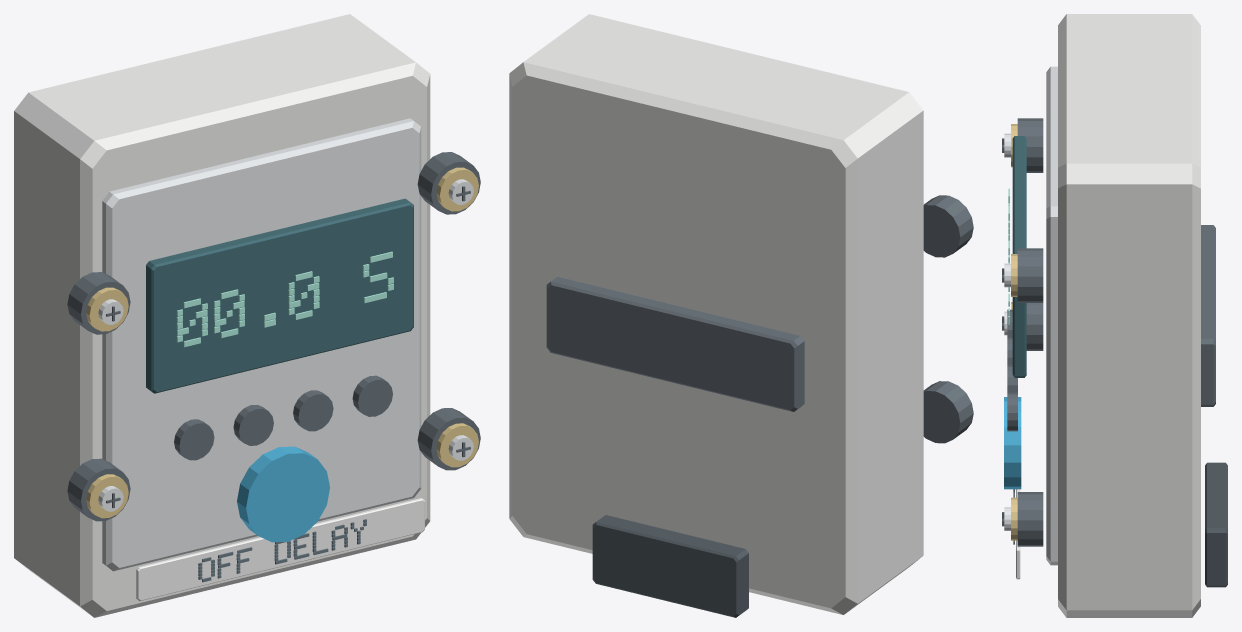
The model's file is timerOffDelay.glb.
3 views of the same model, side by side, from view 1: azimuth 30°, elevation 25°; view 2: azimuth 150°, elevation 25°; view 3: azimuth 270°, elevation 25° (orthographic). The views are drawn at different scales.
Parts seen in each view (by area): view 1: timerOffDelay-preview; view 2: timerOffDelay-preview; view 3: timerOffDelay-preview.
Part boxes in pixels (x1=…): timerOffDelay-preview: x1=14, y1=14, x2=480, y2=617; timerOffDelay-preview: x1=509, y1=14, x2=973, y2=617; timerOffDelay-preview: x1=1002, y1=14, x2=1227, y2=617.
Bounding box in the file's own units: 2.52 × 2.95 × 1.29.
